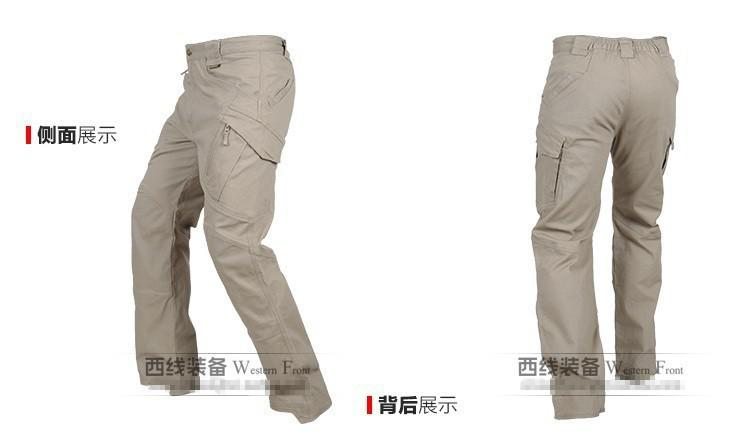pants: (131, 38, 333, 422), (533, 33, 679, 422)
